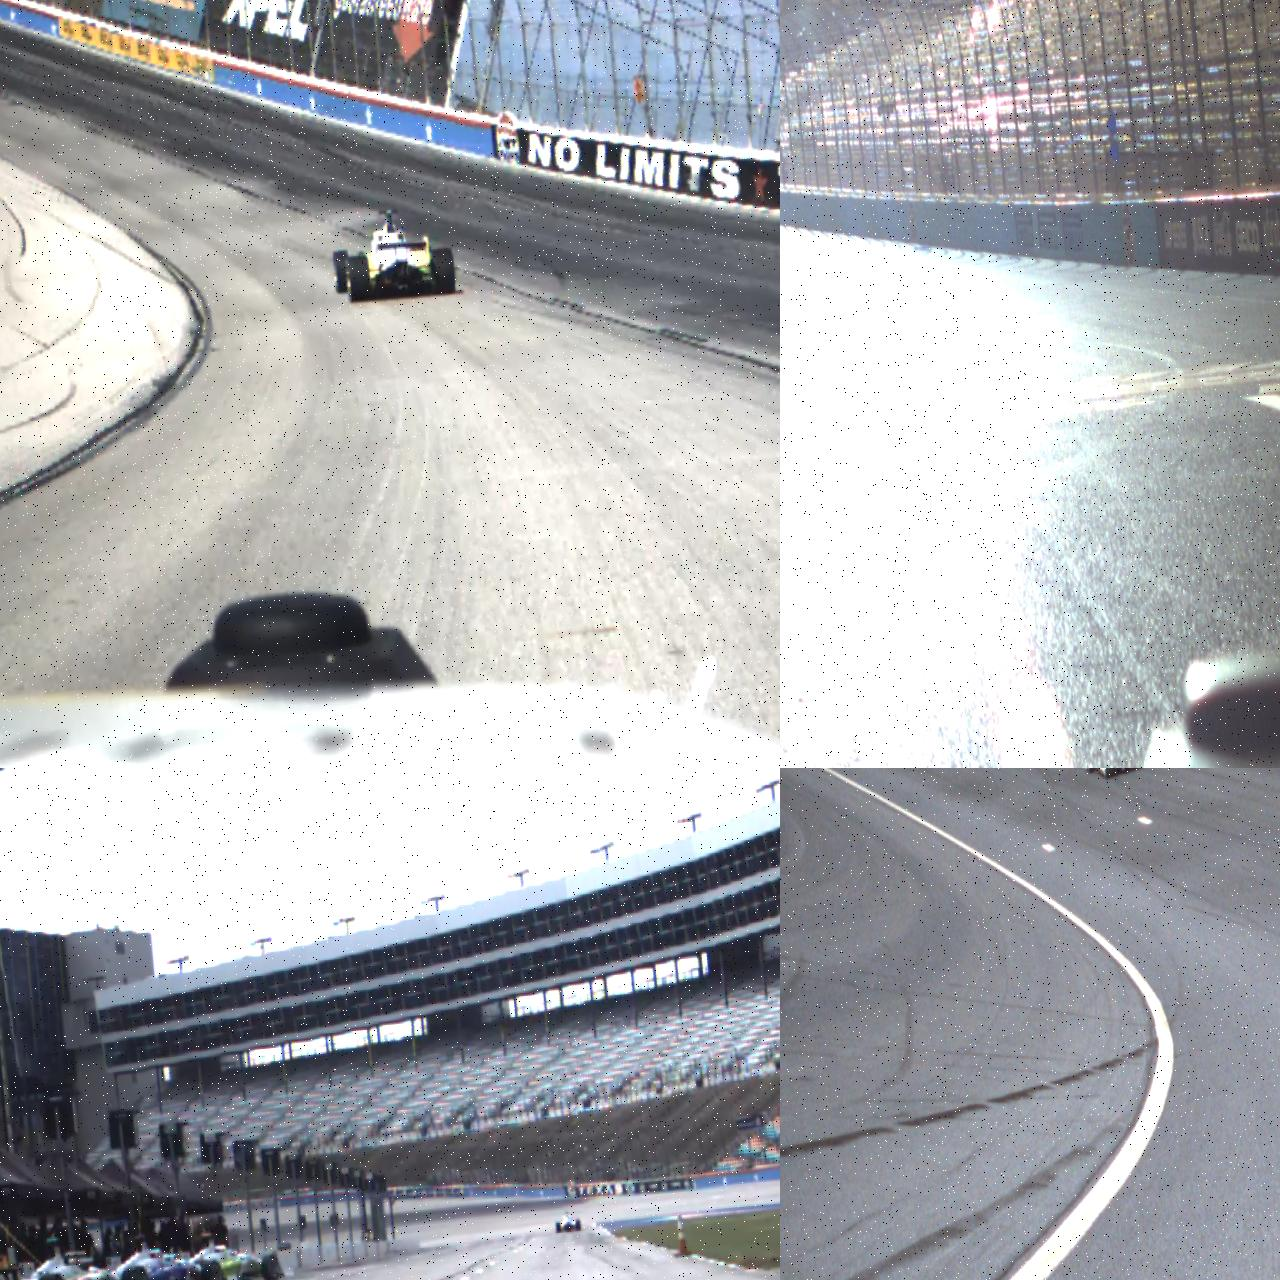AV: (329, 204, 457, 305), (0, 1228, 152, 1280), (1080, 768, 1142, 781), (554, 1211, 581, 1233)
Wheel: (346, 256, 372, 304), (431, 247, 457, 294), (333, 250, 352, 294), (260, 1253, 282, 1280), (200, 1259, 225, 1280), (121, 1266, 151, 1280), (1099, 768, 1112, 779), (556, 1221, 561, 1233), (577, 1218, 581, 1231), (1084, 768, 1094, 774)
